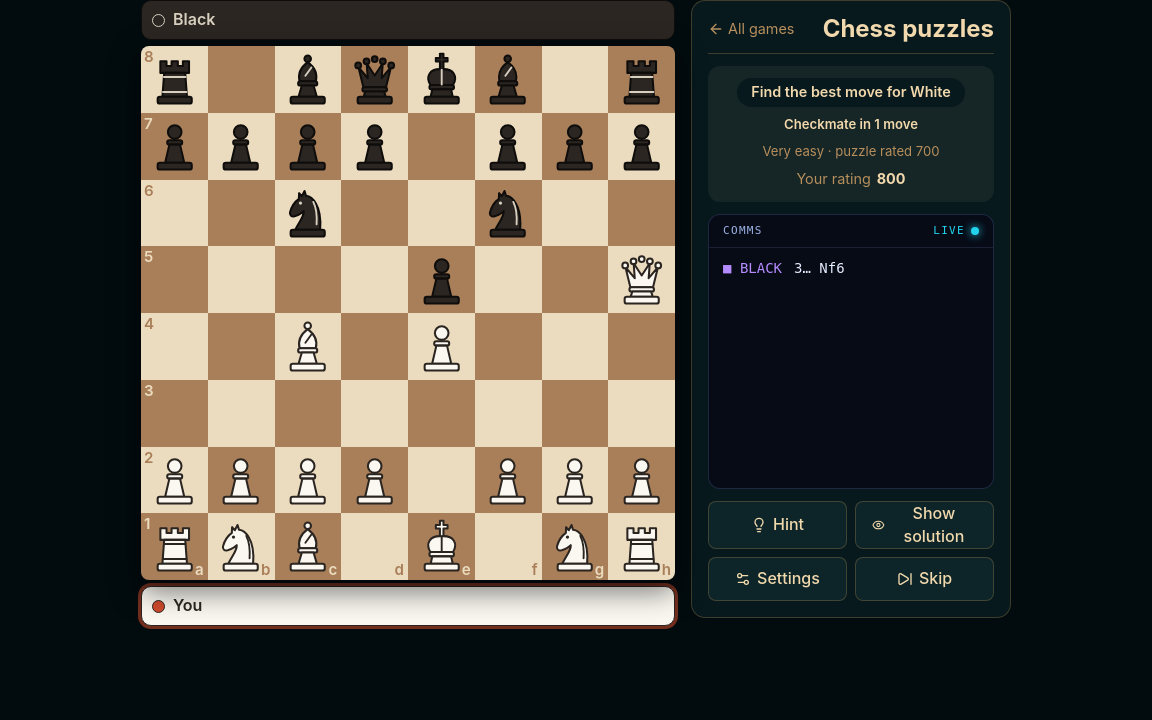
chess puzzles › plays the other side's move, then takes the mate and moves the rating
The width and height of the screenshot is (1152, 720).
Expected: the message reads "Find the best move for White", [751, 83, 951, 100]
Expected: the text "Checkmate in 1 move" is shown, [784, 115, 918, 134]
Click the button named "h5, White queen". click: [642, 280]
box: [608, 246, 675, 313]
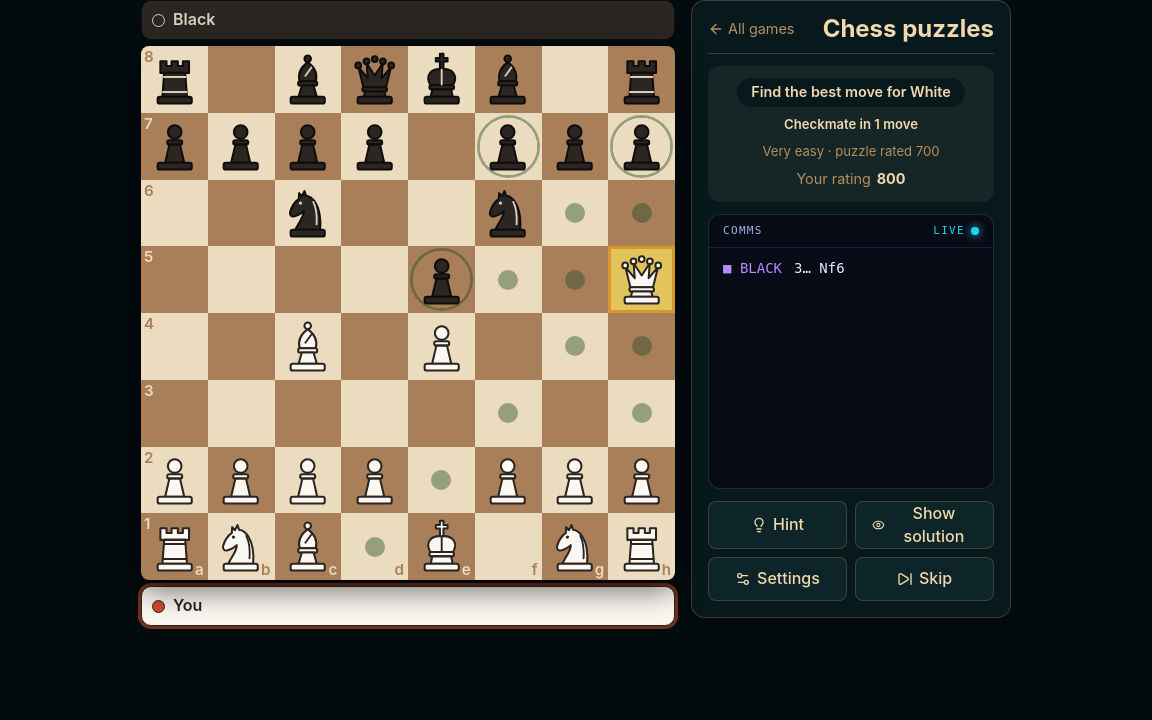
Click the button named "f7, Black pawn". click: [508, 146]
box: [475, 113, 542, 180]
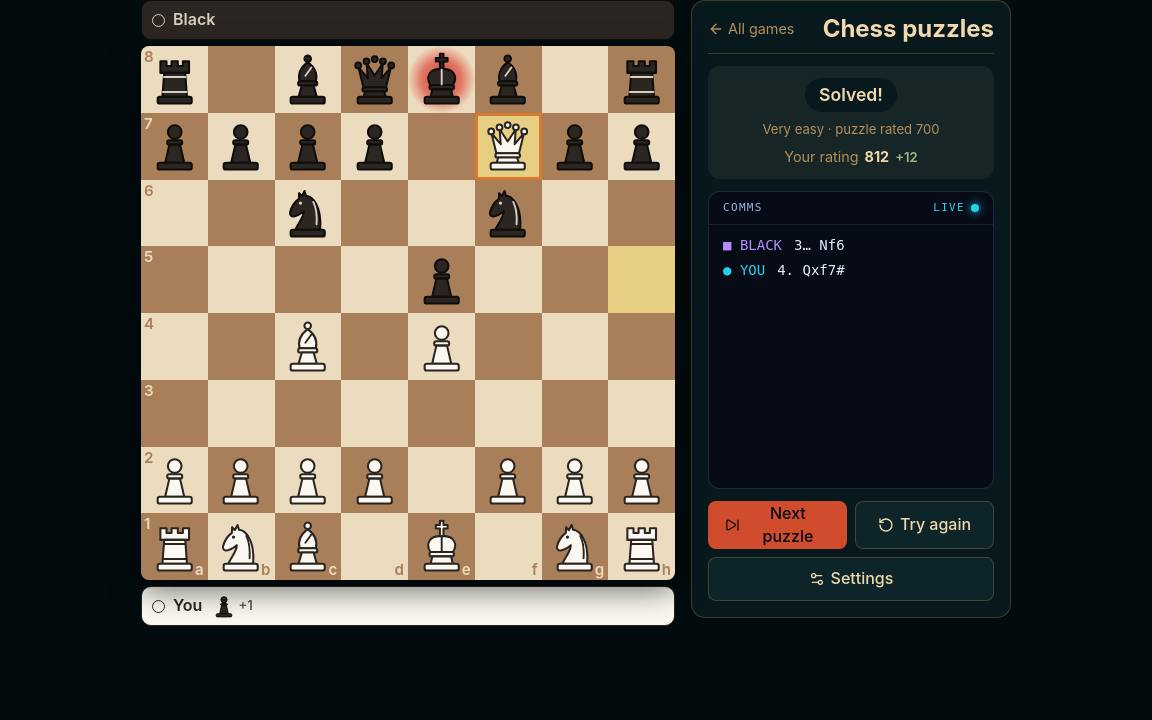
Expected: the message reads "Solved!", [819, 84, 883, 105]
Expected: the text "+12" is shown, [895, 148, 918, 166]
Expected: the button "Next puzzle" is shown, [708, 501, 847, 549]
